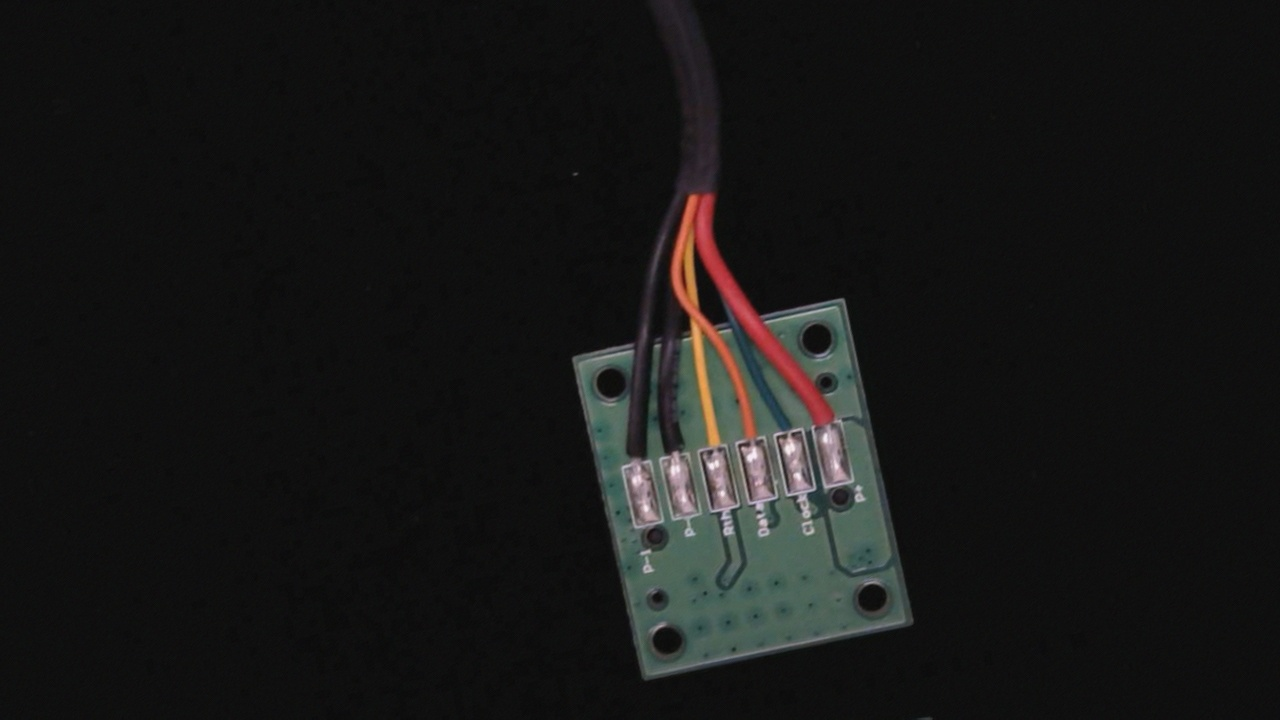Black: (651, 406, 692, 475)
Black1: (613, 413, 652, 481)
Green: (764, 386, 807, 457)
Orange: (727, 391, 767, 460)
Red: (804, 379, 844, 447)
Yellow: (690, 395, 728, 468)
